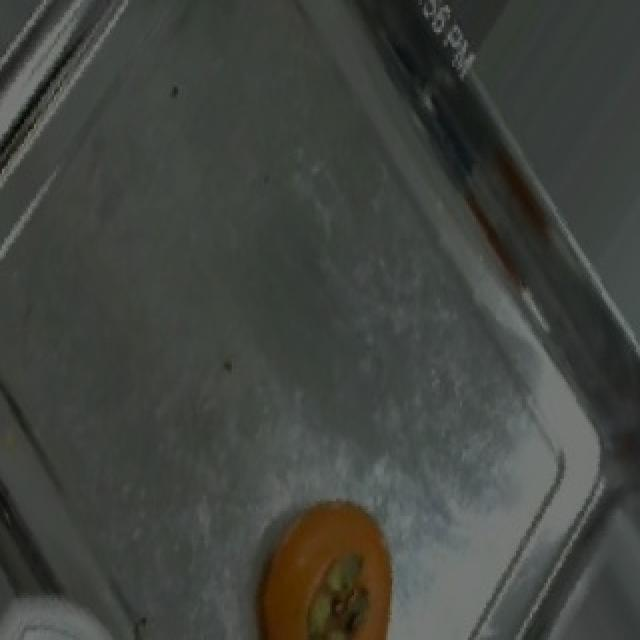Fruit: (238, 479, 422, 640)
